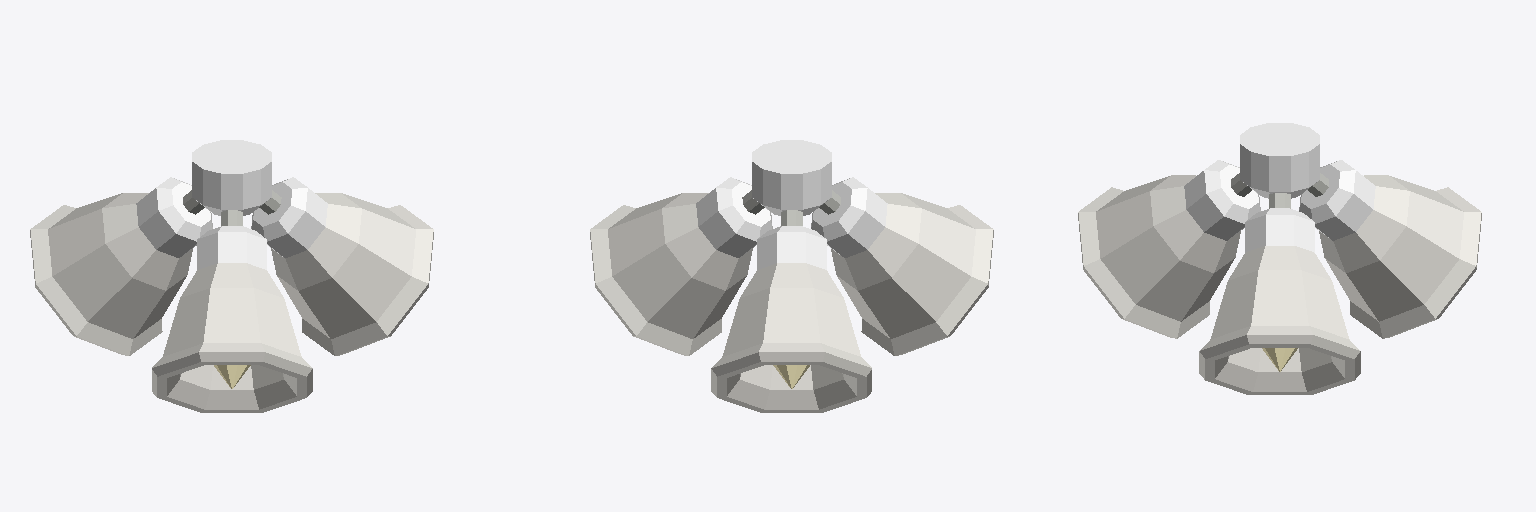
File: Prop_Misc_Ceiling_Light_3.obj
The picture shows the model from 3 angles: view 1: azimuth 30°, elevation 25°; view 2: azimuth 150°, elevation 25°; view 3: azimuth 270°, elevation 25°; orthographic projection.
Parts seen in each view (by area): view 1: object10, object9, object3, object7, object4, object5, object8; view 2: object9, object10, object3, object7, object4, object8, object5; view 3: object3, object10, object9, object7, object5, object8, object4.
Boxes of the visible parts, <box> form: object10: <box>152,263,312,412</box>; object9: <box>30,193,192,355</box>; object3: <box>271,193,433,355</box>; object7: <box>192,140,271,215</box>; object4: <box>251,177,327,257</box>; object5: <box>136,177,212,257</box>; object8: <box>197,210,266,269</box>; object9: <box>711,263,871,412</box>; object10: <box>831,193,993,355</box>; object3: <box>590,193,752,355</box>; object7: <box>752,140,831,215</box>; object4: <box>696,177,772,257</box>; object8: <box>811,177,887,257</box>; object5: <box>757,210,826,269</box>; object3: <box>1199,246,1360,394</box>; object10: <box>1078,175,1240,338</box>; object9: <box>1319,175,1481,338</box>; object7: <box>1240,123,1319,198</box>; object5: <box>1299,160,1375,240</box>; object8: <box>1184,160,1260,240</box>; object4: <box>1245,193,1314,252</box>.
Size of the model in its own units: 0.5898 by 0.3641 by 0.6346.